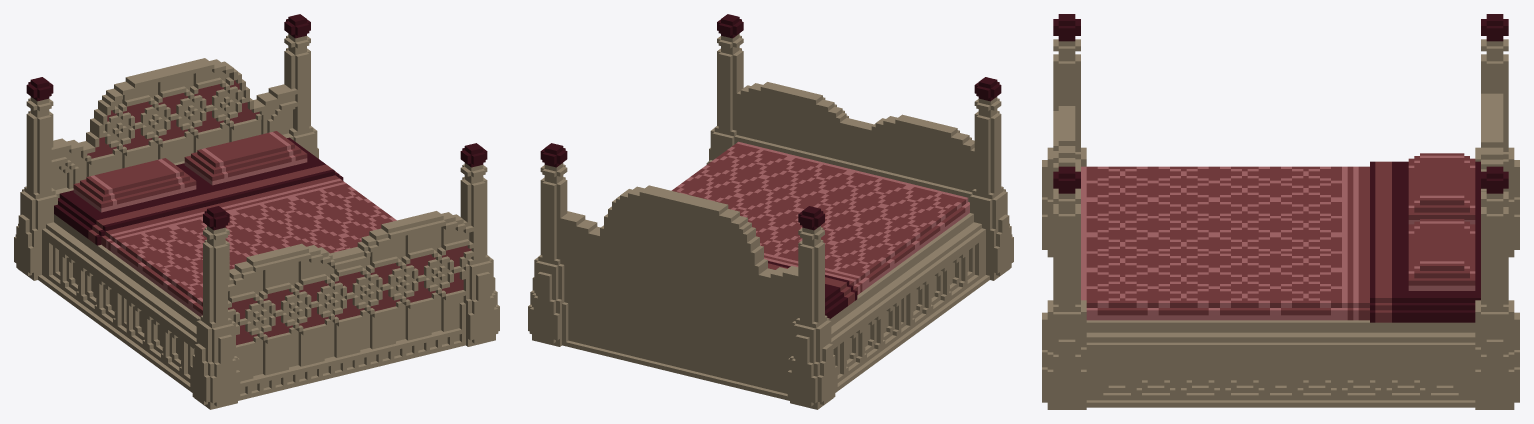
Rendered from bed_02.obj.
The picture shows the model from 3 angles, left to right: view 1: azimuth 30°, elevation 25°; view 2: azimuth 150°, elevation 25°; view 3: azimuth 270°, elevation 25°; orthographic projection. The views are drawn at different scales.
Bounding box in the file's own units: 74 × 46 × 86.
1 material, 1 textured.
